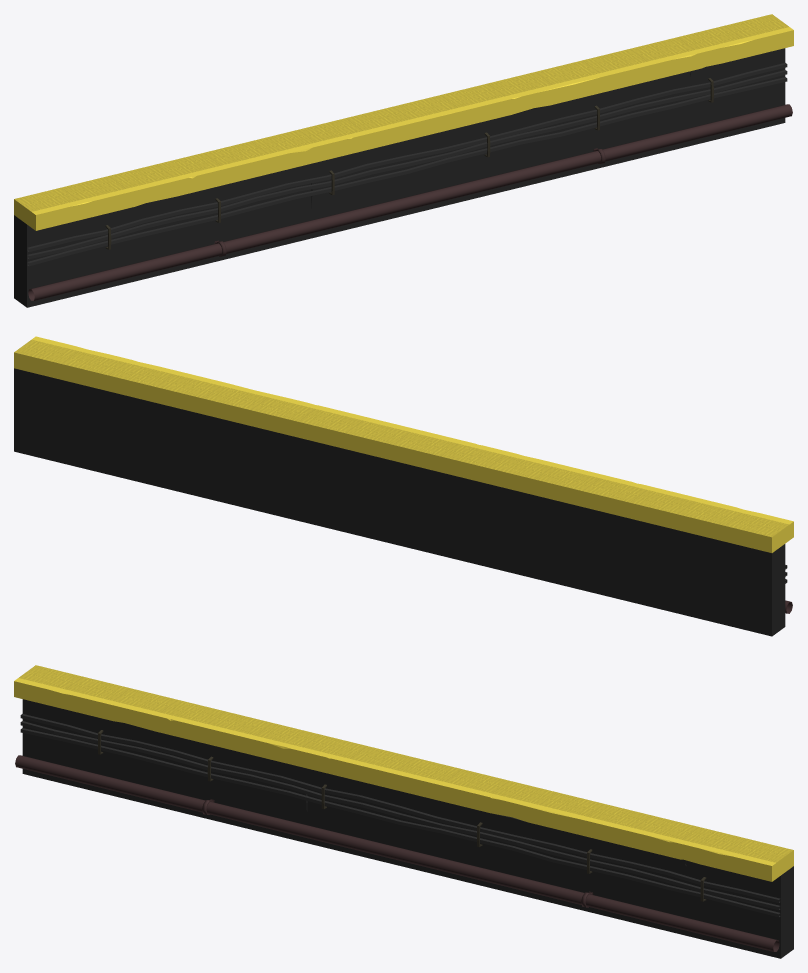
The model's file is SW_ENV_PlatformEdge_A_10m_FF.fbx.
3 views of the same model, one above another, from view 1: azimuth 30°, elevation 25°; view 2: azimuth 150°, elevation 25°; view 3: azimuth 330°, elevation 25° (orthographic).
Visible parts, largest first — view 1: SW_ENV_PlatformEdge_A_10m_FF; view 2: SW_ENV_PlatformEdge_A_10m_FF; view 3: SW_ENV_PlatformEdge_A_10m_FF.
Boxes of the visible parts, bbox=[...] form: SW_ENV_PlatformEdge_A_10m_FF: bbox=[14, 14, 793, 307]; SW_ENV_PlatformEdge_A_10m_FF: bbox=[14, 336, 793, 636]; SW_ENV_PlatformEdge_A_10m_FF: bbox=[14, 665, 793, 958].
Size of the model in its own units: 10 by 1.25 by 0.5.
